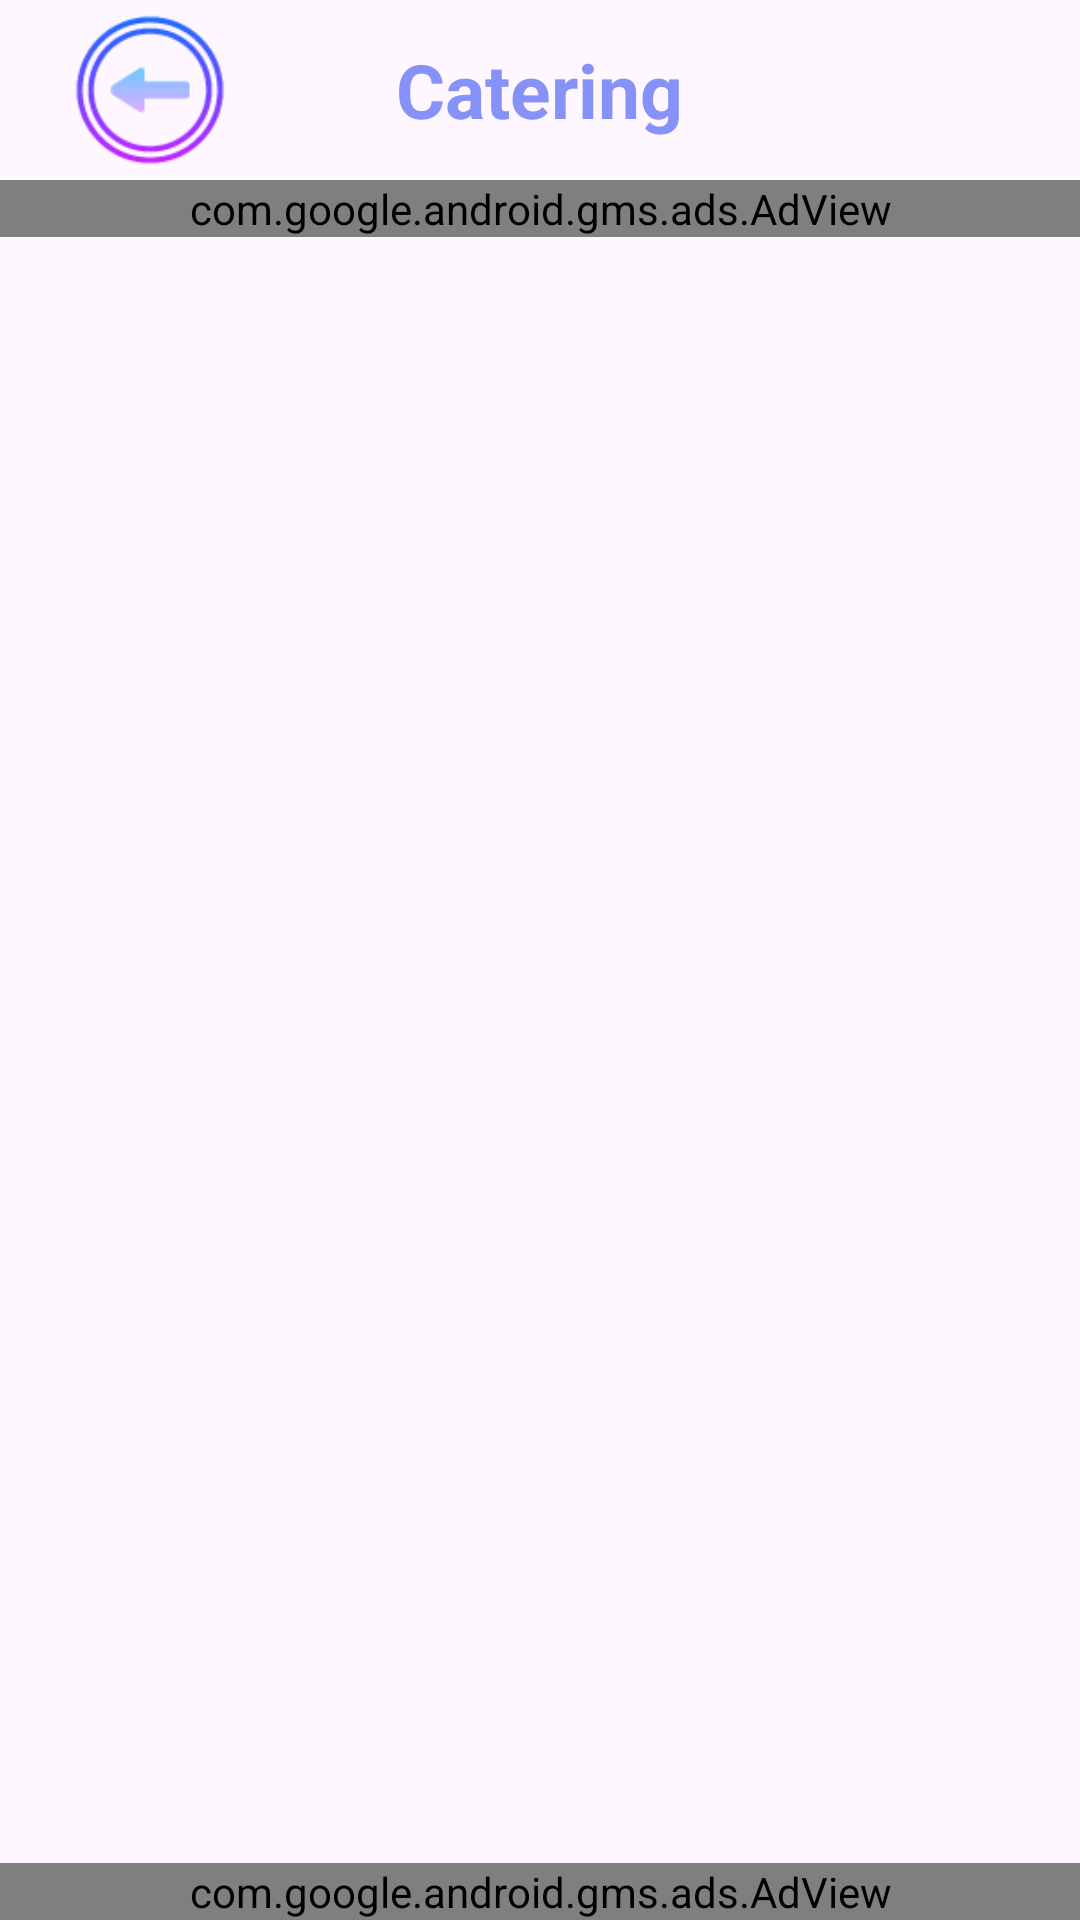

Point at icon controls on the screen. Image size 1080x1920, points as [x,y].
back: [150,90]
